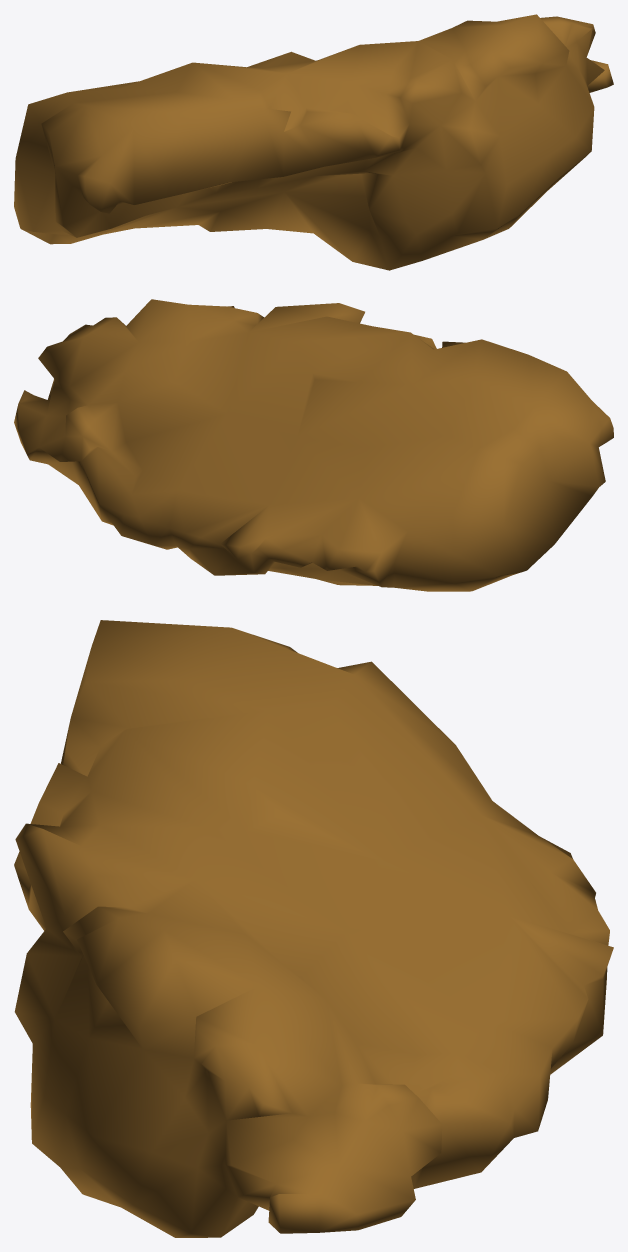
Rendered from MSH_Rock_Single_17.FBX.
3 views of the same model, one above another, from view 1: azimuth 30°, elevation 25°; view 2: azimuth 150°, elevation 25°; view 3: azimuth 270°, elevation 25° (orthographic). The views are drawn at different scales.
Parts seen in each view (by area): view 1: MESH_LOD0; view 2: MESH_LOD0; view 3: MESH_LOD0.
Boxes of the visible parts, left/top/right/bottom form: MESH_LOD0: left=14, top=14, right=613, bottom=270; MESH_LOD0: left=14, top=299, right=613, bottom=591; MESH_LOD0: left=14, top=620, right=613, bottom=1237.
Size of what is drawn, in the model's own units: 63.42 by 23.16 by 35.48.
